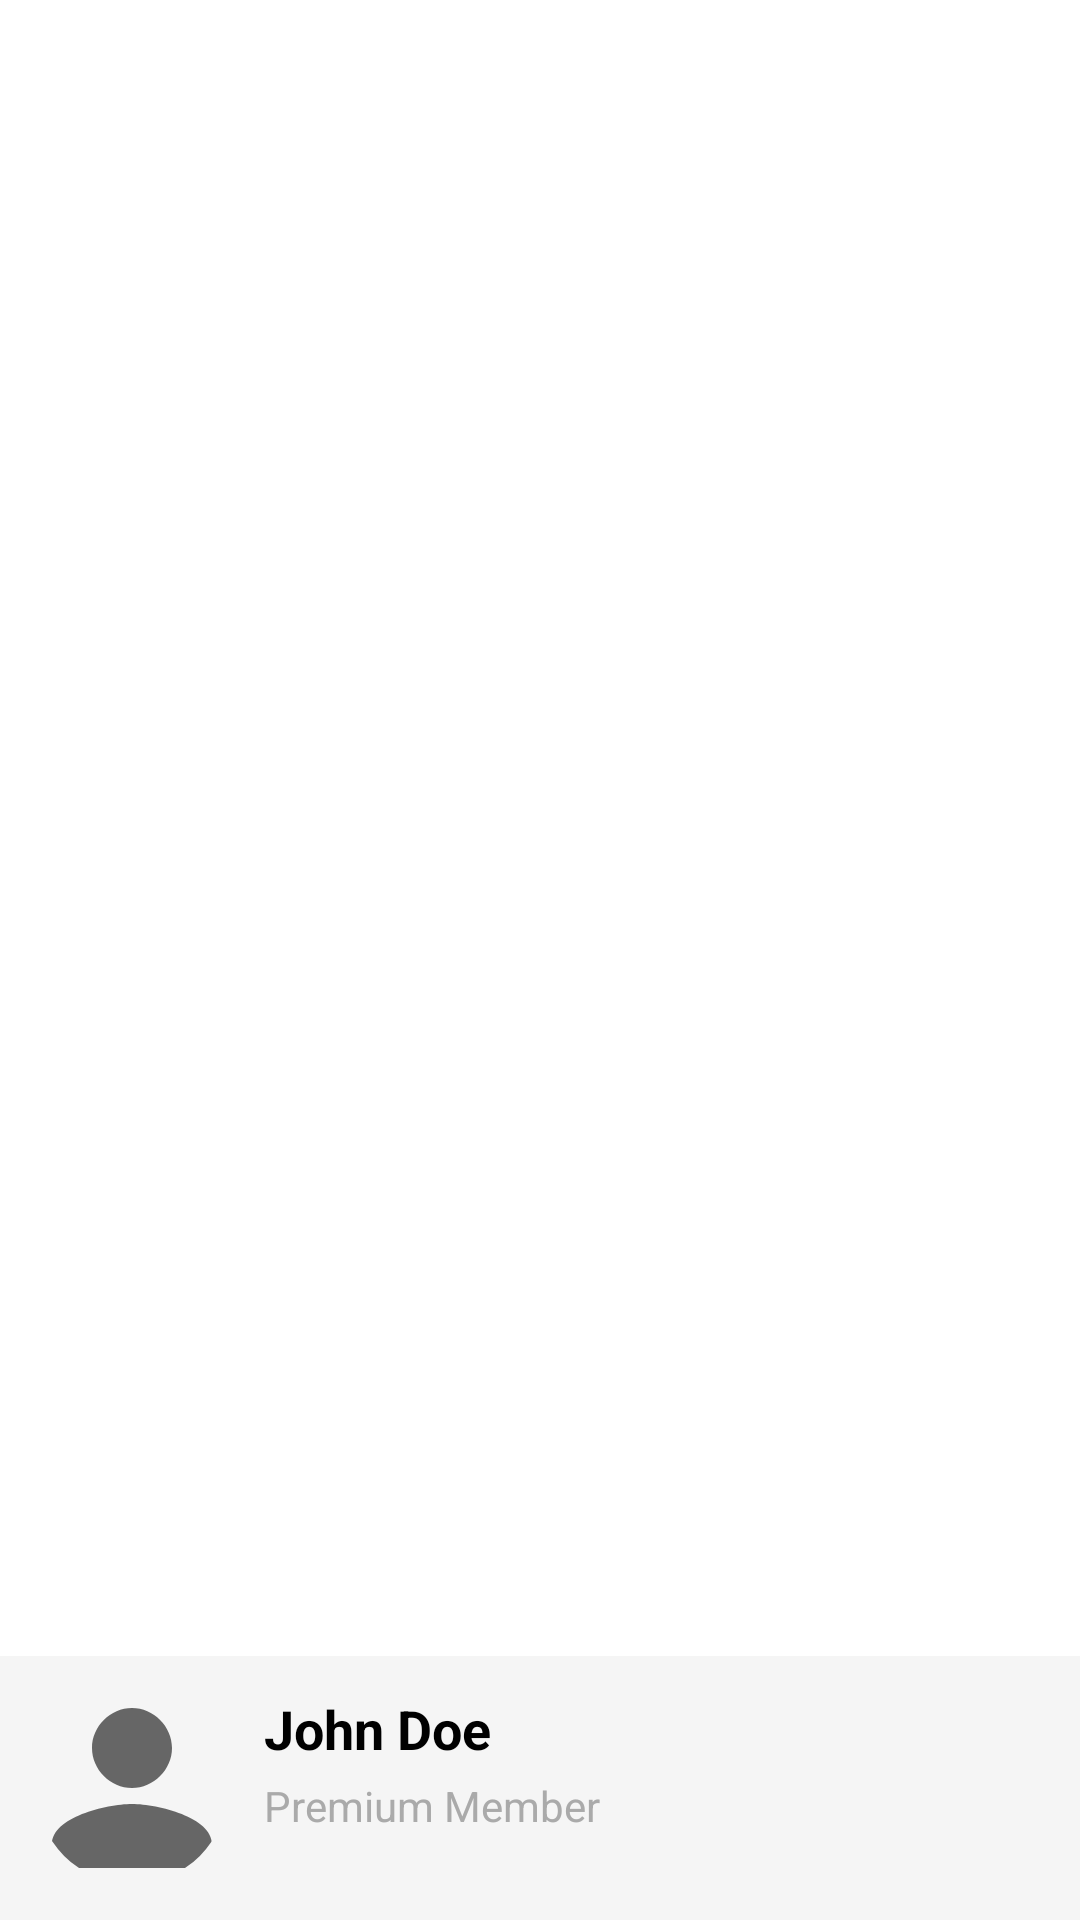

Icon click points for this 1080 × 1920 phone screenshot, format point (x, y):
profile: point (132, 1788)
